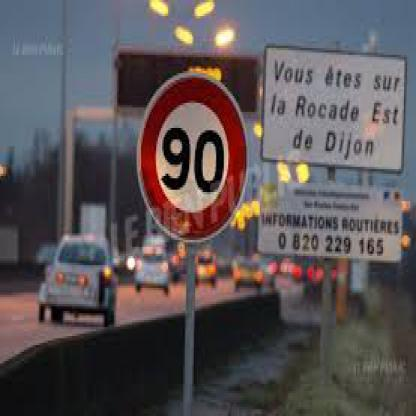Speed Limit -90-: (138, 71, 259, 239)
